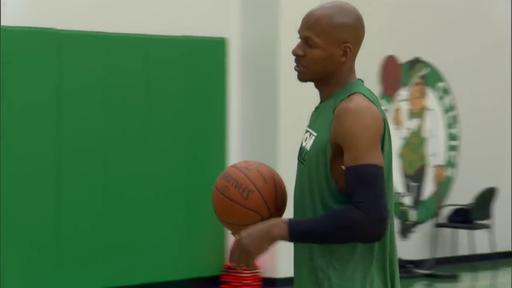ball: (212, 159, 288, 226)
human: (229, 0, 401, 288)
